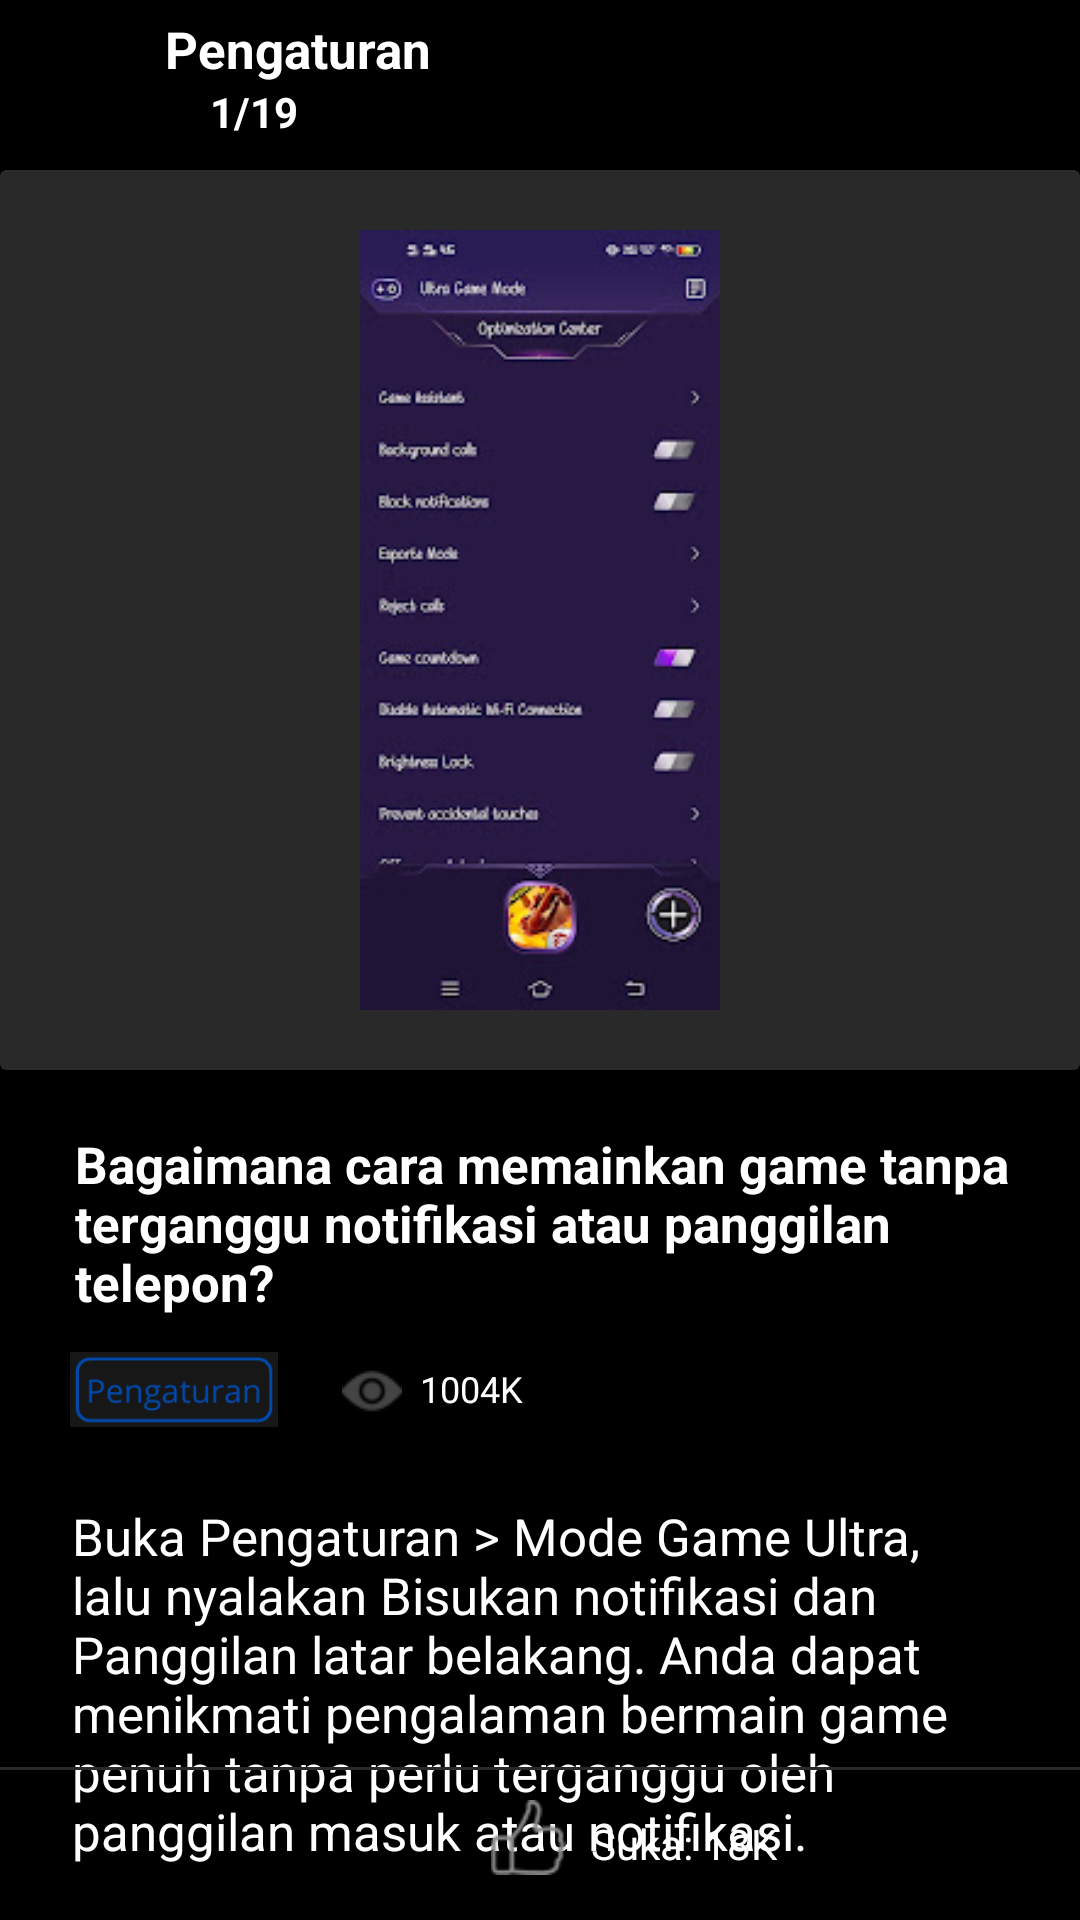

Icon click points for this 1080px x 1920px phone screenshot, format (x,y):
eye: (372,1391)
